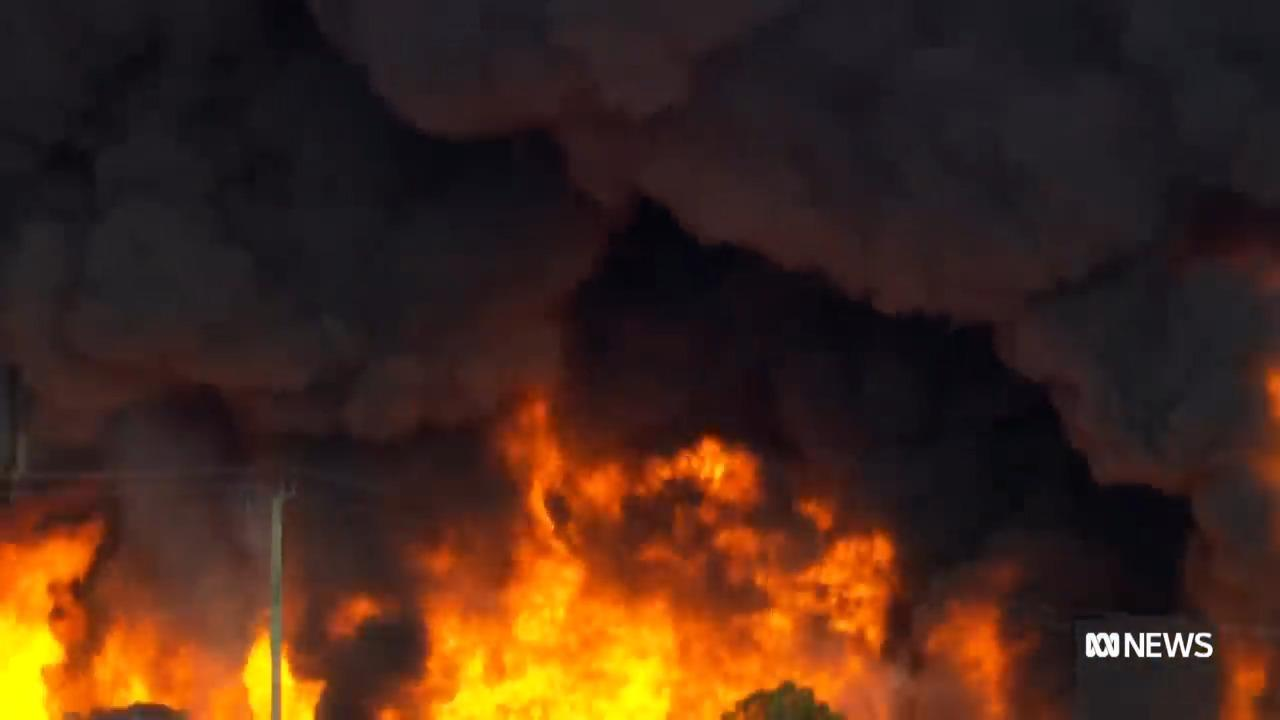fire: (440, 392, 1046, 719), (0, 541, 81, 716)
